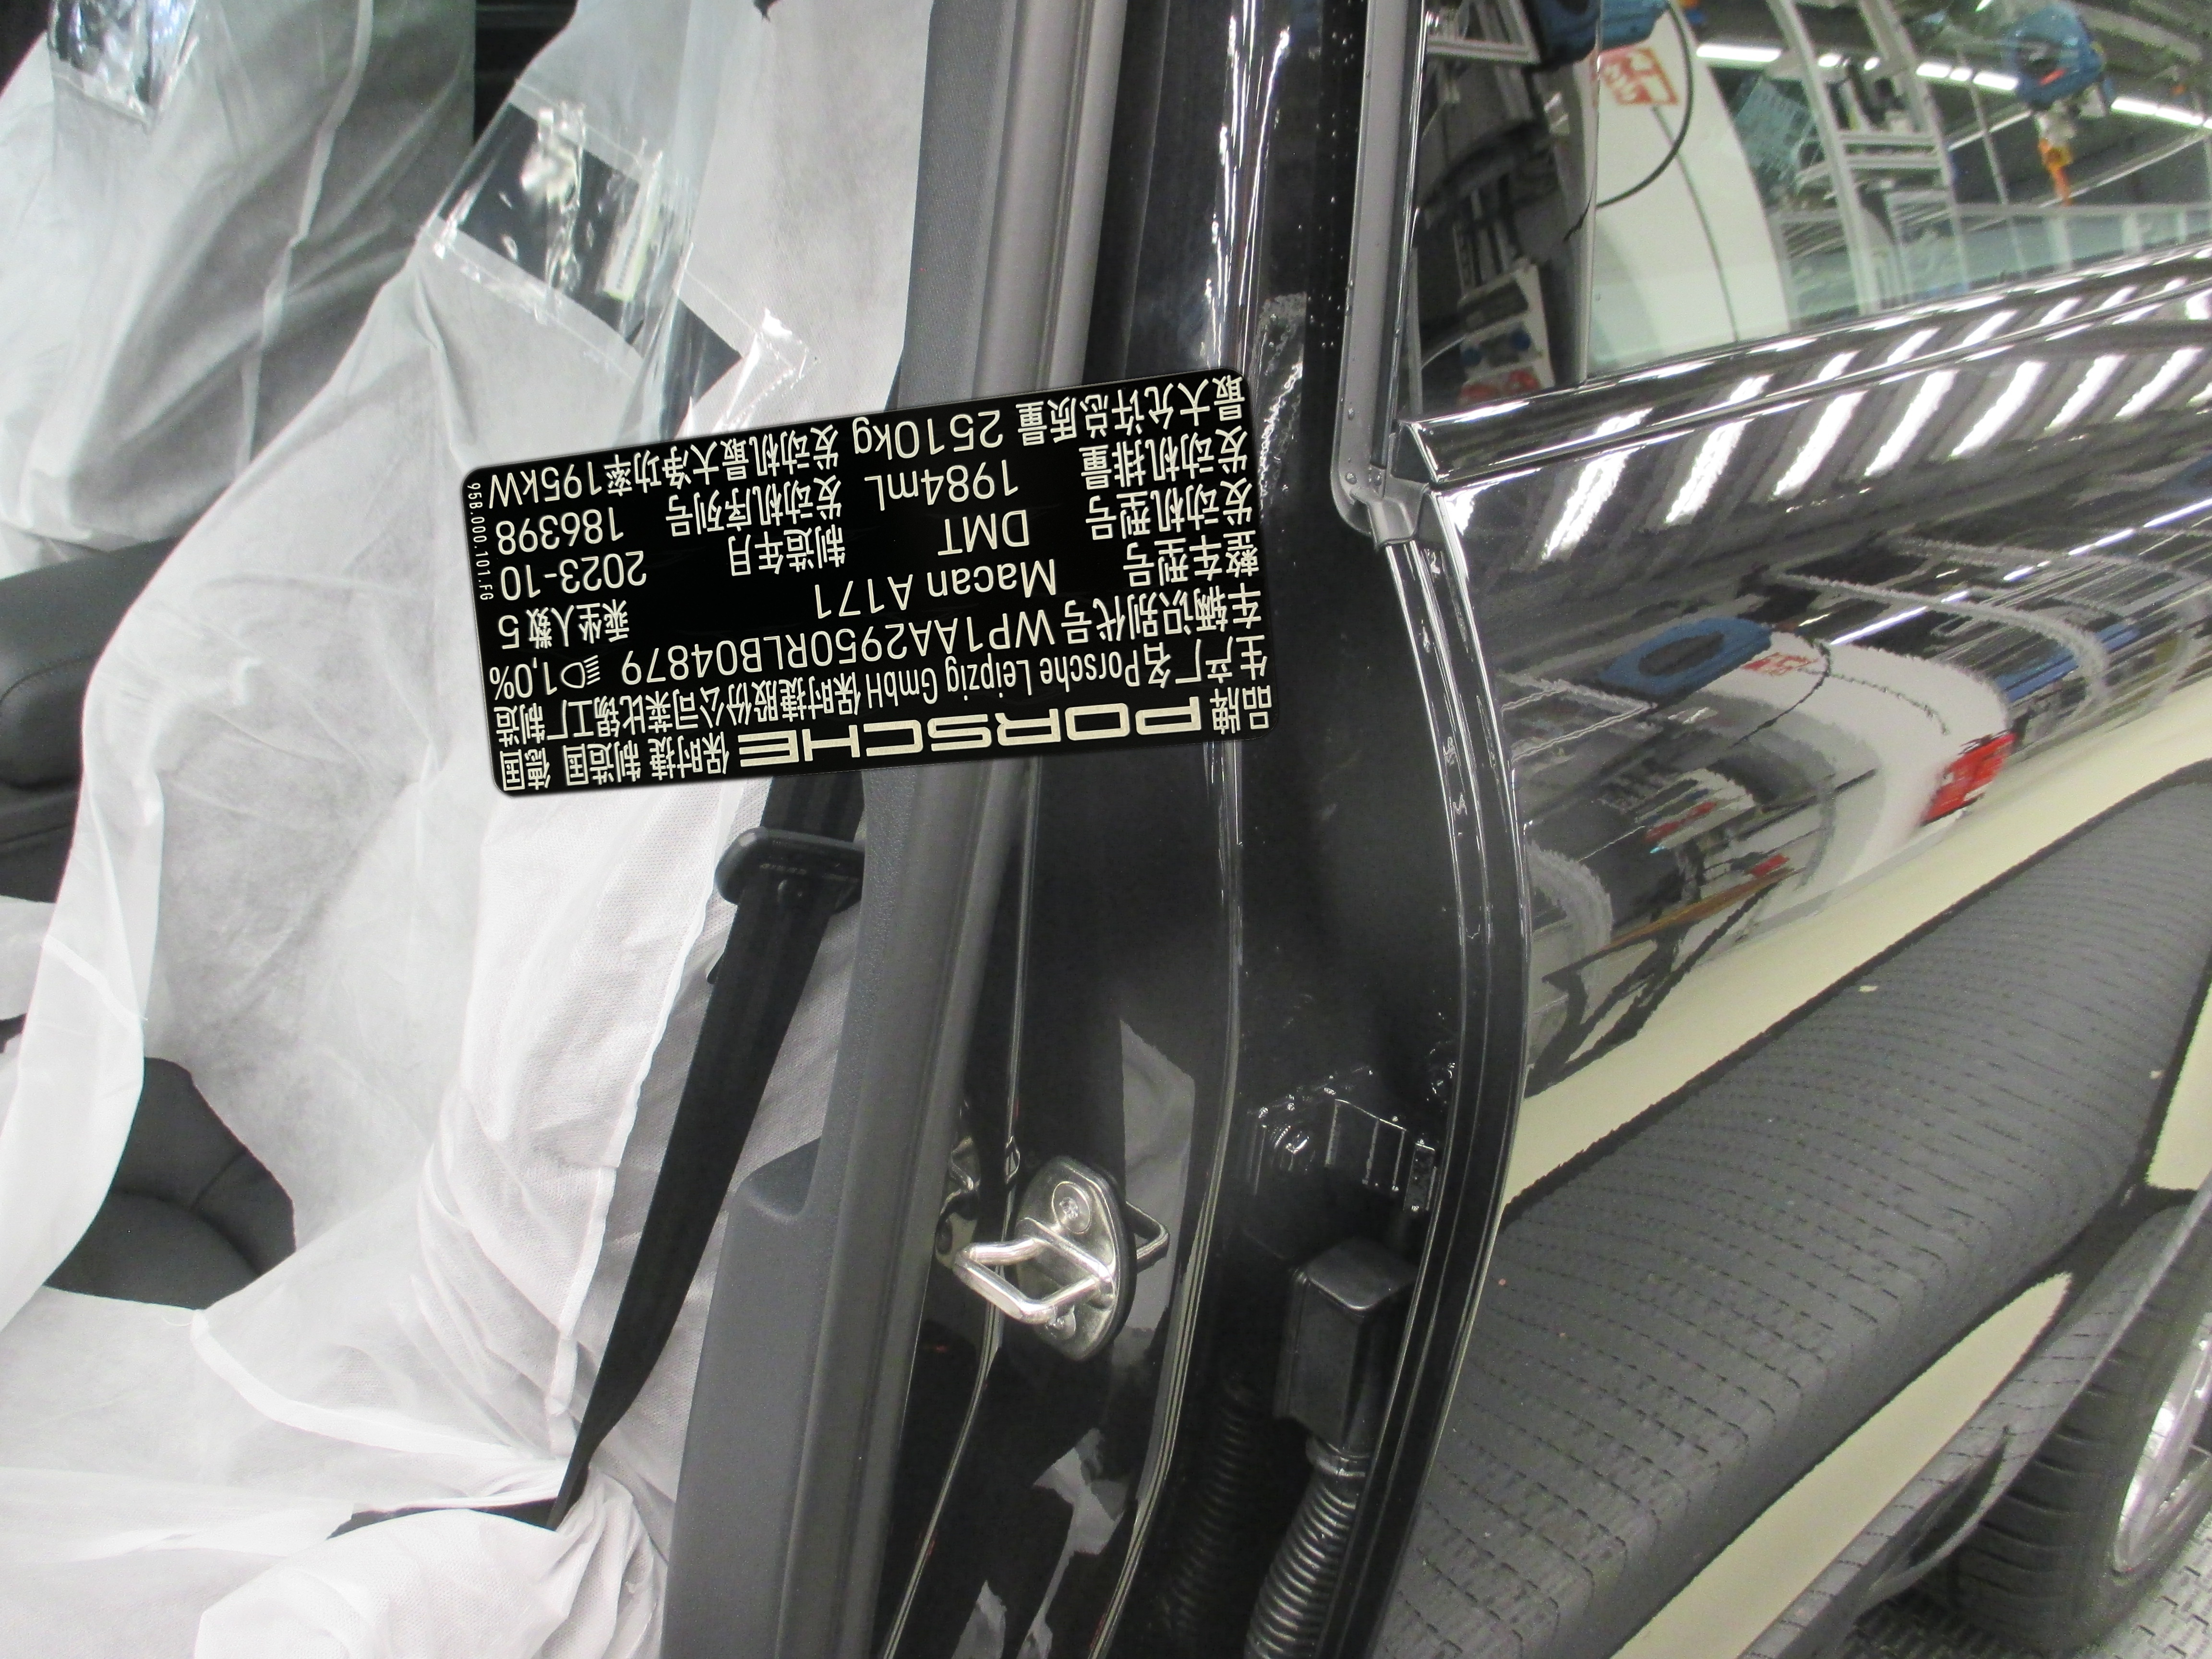Typlabel-China: (462, 368, 1278, 796)
